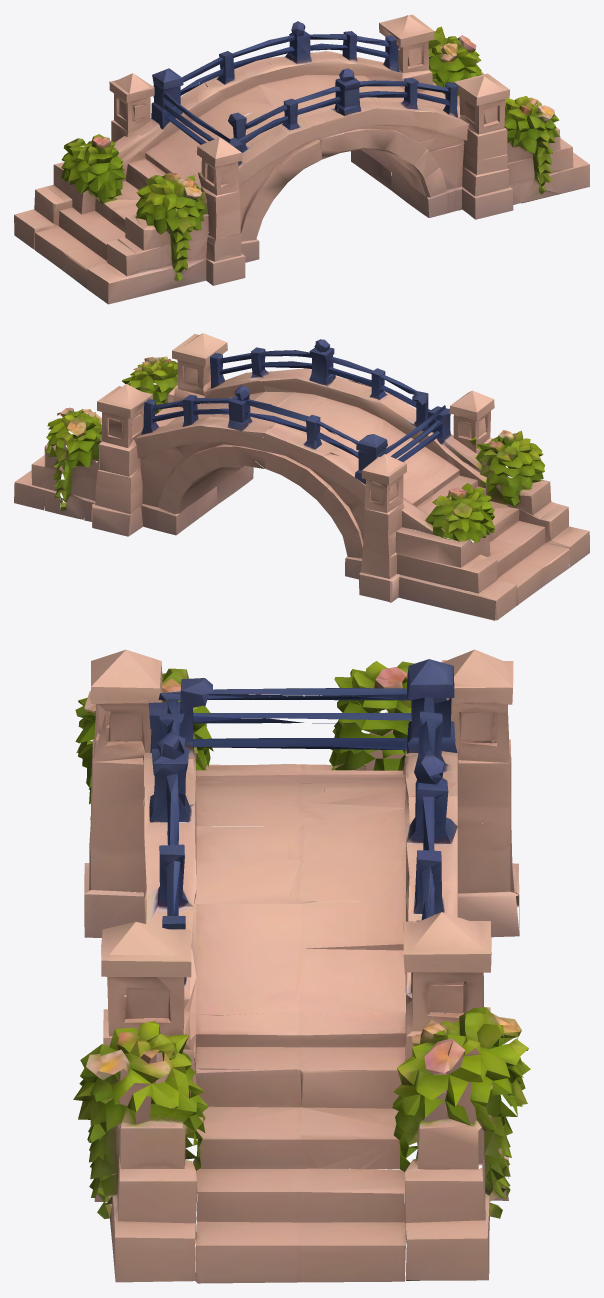
The model's file is M-13_08_bridge.glb.
3 views of the same model, one above another, from view 1: azimuth 30°, elevation 25°; view 2: azimuth 150°, elevation 25°; view 3: azimuth 270°, elevation 25° (orthographic). The views are drawn at different scales.
Parts seen in each view (by area): view 1: M-13_08_bridge; view 2: M-13_08_bridge; view 3: M-13_08_bridge.
Boxes of the visible parts, x1,y1,x2,y2 form: M-13_08_bridge: (14, 14, 589, 304); M-13_08_bridge: (14, 333, 589, 620); M-13_08_bridge: (73, 649, 530, 1283).
Bounding box in the file's own units: 9.02 × 2.92 × 3.7.
1 material, 1 textured.
